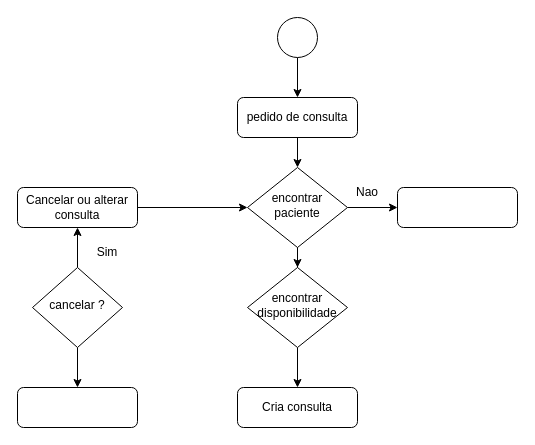
Some shapes in this 535 by 445 pixel diagram are drawn without their labels. The box of each missing label's shape, as (x1, y1, x2, y2) in pixels:
cadastrar paciente: (396, 186, 518, 228)
cancela consulta: (16, 386, 138, 428)
inicio: (276, 16, 318, 58)
